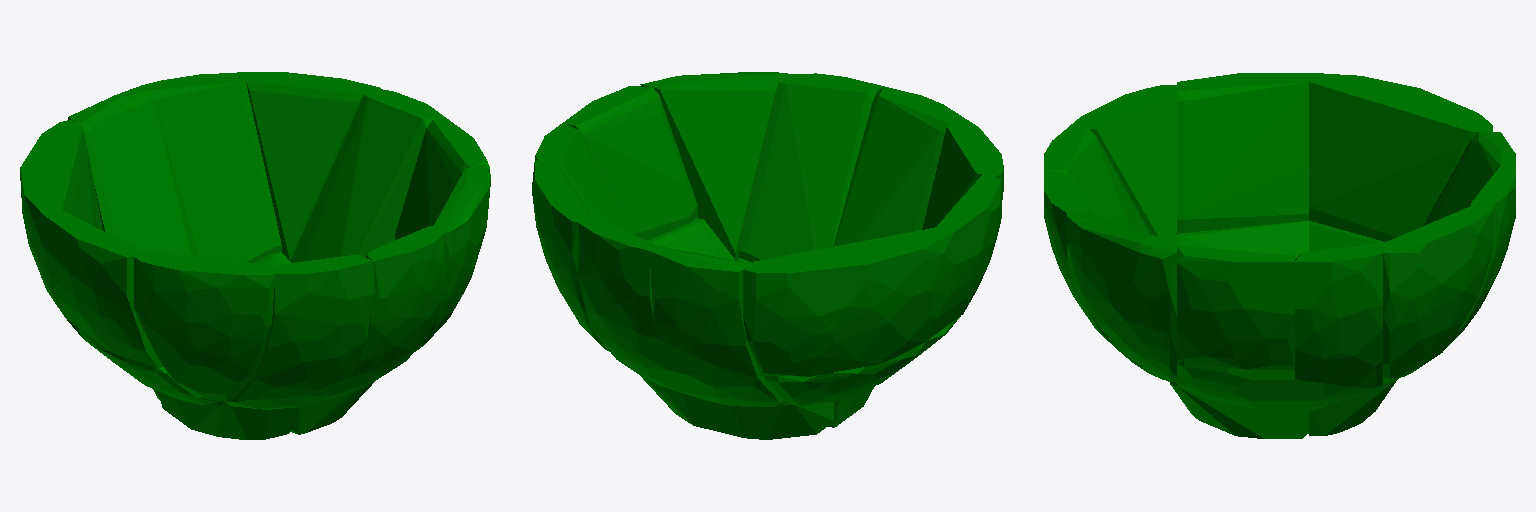
URDF robot description (model):
<?xml version="1.0" ?>

<robot name="model">

  <material name="color">
    <color rgba="0.01 0.51 0.02 1.00"/>
  </material>

  <link name="base_link">

    <contact>
      <lateral_friction value="1.0"/>
      <rolling_friction value="0.001"/>
      <spinning_friction value="0.001"/>
      <inertia_scaling value="1.0"/>
    </contact>

    <inertial>
      <origin rpy="0 0 0" xyz="0.000180774 0.000325939 0.0327776"/>
       <mass value="0.1"/>
       <inertia ixx="1" ixy="0" ixz="0" iyy="1" iyz="0" izz="1"/>
    </inertial>

    <visual>
      <origin rpy="0 0 0" xyz="0 0 0"/>
      <geometry>
        <mesh filename="model_vhacd_0_of_18.obj" scale="1 1 1"/>
      </geometry>
      <material name="color"/>
    </visual>
    <visual>
      <origin rpy="0 0 0" xyz="0 0 0"/>
      <geometry>
        <mesh filename="model_vhacd_1_of_18.obj" scale="1 1 1"/>
      </geometry>
      <material name="color"/>
    </visual>
    <visual>
      <origin rpy="0 0 0" xyz="0 0 0"/>
      <geometry>
        <mesh filename="model_vhacd_2_of_18.obj" scale="1 1 1"/>
      </geometry>
      <material name="color"/>
    </visual>
    <visual>
      <origin rpy="0 0 0" xyz="0 0 0"/>
      <geometry>
        <mesh filename="model_vhacd_3_of_18.obj" scale="1 1 1"/>
      </geometry>
      <material name="color"/>
    </visual>
    <visual>
      <origin rpy="0 0 0" xyz="0 0 0"/>
      <geometry>
        <mesh filename="model_vhacd_4_of_18.obj" scale="1 1 1"/>
      </geometry>
      <material name="color"/>
    </visual>
    <visual>
      <origin rpy="0 0 0" xyz="0 0 0"/>
      <geometry>
        <mesh filename="model_vhacd_5_of_18.obj" scale="1 1 1"/>
      </geometry>
      <material name="color"/>
    </visual>
    <visual>
      <origin rpy="0 0 0" xyz="0 0 0"/>
      <geometry>
        <mesh filename="model_vhacd_6_of_18.obj" scale="1 1 1"/>
      </geometry>
      <material name="color"/>
    </visual>
    <visual>
      <origin rpy="0 0 0" xyz="0 0 0"/>
      <geometry>
        <mesh filename="model_vhacd_7_of_18.obj" scale="1 1 1"/>
      </geometry>
      <material name="color"/>
    </visual>
    <visual>
      <origin rpy="0 0 0" xyz="0 0 0"/>
      <geometry>
        <mesh filename="model_vhacd_8_of_18.obj" scale="1 1 1"/>
      </geometry>
      <material name="color"/>
    </visual>
    <visual>
      <origin rpy="0 0 0" xyz="0 0 0"/>
      <geometry>
        <mesh filename="model_vhacd_9_of_18.obj" scale="1 1 1"/>
      </geometry>
      <material name="color"/>
    </visual>
    <visual>
      <origin rpy="0 0 0" xyz="0 0 0"/>
      <geometry>
        <mesh filename="model_vhacd_10_of_18.obj" scale="1 1 1"/>
      </geometry>
      <material name="color"/>
    </visual>
    <visual>
      <origin rpy="0 0 0" xyz="0 0 0"/>
      <geometry>
        <mesh filename="model_vhacd_11_of_18.obj" scale="1 1 1"/>
      </geometry>
      <material name="color"/>
    </visual>
    <visual>
      <origin rpy="0 0 0" xyz="0 0 0"/>
      <geometry>
        <mesh filename="model_vhacd_12_of_18.obj" scale="1 1 1"/>
      </geometry>
      <material name="color"/>
    </visual>
    <visual>
      <origin rpy="0 0 0" xyz="0 0 0"/>
      <geometry>
        <mesh filename="model_vhacd_13_of_18.obj" scale="1 1 1"/>
      </geometry>
      <material name="color"/>
    </visual>
    <visual>
      <origin rpy="0 0 0" xyz="0 0 0"/>
      <geometry>
        <mesh filename="model_vhacd_14_of_18.obj" scale="1 1 1"/>
      </geometry>
      <material name="color"/>
    </visual>
    <visual>
      <origin rpy="0 0 0" xyz="0 0 0"/>
      <geometry>
        <mesh filename="model_vhacd_15_of_18.obj" scale="1 1 1"/>
      </geometry>
      <material name="color"/>
    </visual>
    <visual>
      <origin rpy="0 0 0" xyz="0 0 0"/>
      <geometry>
        <mesh filename="model_vhacd_16_of_18.obj" scale="1 1 1"/>
      </geometry>
      <material name="color"/>
    </visual>
    <visual>
      <origin rpy="0 0 0" xyz="0 0 0"/>
      <geometry>
        <mesh filename="model_vhacd_17_of_18.obj" scale="1 1 1"/>
      </geometry>
      <material name="color"/>
    </visual>

    <collision>
      <origin rpy="0 0 0" xyz="0 0 0"/>
      <geometry>
        <mesh filename="model_vhacd_0_of_18.obj" scale="1 1 1"/>
      </geometry>
    </collision>
    <collision>
      <origin rpy="0 0 0" xyz="0 0 0"/>
      <geometry>
        <mesh filename="model_vhacd_1_of_18.obj" scale="1 1 1"/>
      </geometry>
    </collision>
    <collision>
      <origin rpy="0 0 0" xyz="0 0 0"/>
      <geometry>
        <mesh filename="model_vhacd_2_of_18.obj" scale="1 1 1"/>
      </geometry>
    </collision>
    <collision>
      <origin rpy="0 0 0" xyz="0 0 0"/>
      <geometry>
        <mesh filename="model_vhacd_3_of_18.obj" scale="1 1 1"/>
      </geometry>
    </collision>
    <collision>
      <origin rpy="0 0 0" xyz="0 0 0"/>
      <geometry>
        <mesh filename="model_vhacd_4_of_18.obj" scale="1 1 1"/>
      </geometry>
    </collision>
    <collision>
      <origin rpy="0 0 0" xyz="0 0 0"/>
      <geometry>
        <mesh filename="model_vhacd_5_of_18.obj" scale="1 1 1"/>
      </geometry>
    </collision>
    <collision>
      <origin rpy="0 0 0" xyz="0 0 0"/>
      <geometry>
        <mesh filename="model_vhacd_6_of_18.obj" scale="1 1 1"/>
      </geometry>
    </collision>
    <collision>
      <origin rpy="0 0 0" xyz="0 0 0"/>
      <geometry>
        <mesh filename="model_vhacd_7_of_18.obj" scale="1 1 1"/>
      </geometry>
    </collision>
    <collision>
      <origin rpy="0 0 0" xyz="0 0 0"/>
      <geometry>
        <mesh filename="model_vhacd_8_of_18.obj" scale="1 1 1"/>
      </geometry>
    </collision>
    <collision>
      <origin rpy="0 0 0" xyz="0 0 0"/>
      <geometry>
        <mesh filename="model_vhacd_9_of_18.obj" scale="1 1 1"/>
      </geometry>
    </collision>
    <collision>
      <origin rpy="0 0 0" xyz="0 0 0"/>
      <geometry>
        <mesh filename="model_vhacd_10_of_18.obj" scale="1 1 1"/>
      </geometry>
    </collision>
    <collision>
      <origin rpy="0 0 0" xyz="0 0 0"/>
      <geometry>
        <mesh filename="model_vhacd_11_of_18.obj" scale="1 1 1"/>
      </geometry>
    </collision>
    <collision>
      <origin rpy="0 0 0" xyz="0 0 0"/>
      <geometry>
        <mesh filename="model_vhacd_12_of_18.obj" scale="1 1 1"/>
      </geometry>
    </collision>
    <collision>
      <origin rpy="0 0 0" xyz="0 0 0"/>
      <geometry>
        <mesh filename="model_vhacd_13_of_18.obj" scale="1 1 1"/>
      </geometry>
    </collision>
    <collision>
      <origin rpy="0 0 0" xyz="0 0 0"/>
      <geometry>
        <mesh filename="model_vhacd_14_of_18.obj" scale="1 1 1"/>
      </geometry>
    </collision>
    <collision>
      <origin rpy="0 0 0" xyz="0 0 0"/>
      <geometry>
        <mesh filename="model_vhacd_15_of_18.obj" scale="1 1 1"/>
      </geometry>
    </collision>
    <collision>
      <origin rpy="0 0 0" xyz="0 0 0"/>
      <geometry>
        <mesh filename="model_vhacd_16_of_18.obj" scale="1 1 1"/>
      </geometry>
    </collision>
    <collision>
      <origin rpy="0 0 0" xyz="0 0 0"/>
      <geometry>
        <mesh filename="model_vhacd_17_of_18.obj" scale="1 1 1"/>
      </geometry>
    </collision>

  </link>

</robot>

--- What the picture shows (computed from the rendered views, not written in the file) ---
The picture shows the robot from 3 angles, left to right: view 1: azimuth 30°, elevation 25°; view 2: azimuth 150°, elevation 25°; view 3: azimuth 270°, elevation 25°; orthographic projection.
Model model with 1 links and 0 joints (none), rooted at base_link, posed all joints at 0.
Visible links, largest first — view 1: base_link; view 2: base_link; view 3: base_link.
Link boxes in pixels (bbox=[...]): base_link: bbox=[20, 72, 490, 439]; base_link: bbox=[532, 72, 1003, 439]; base_link: bbox=[1044, 73, 1515, 438].
Bounding box of the posed robot: 0.1149 × 0.1167 × 0.0638 m (x, y, z).
Meshes: 18 distinct files referenced, 18 mesh visuals loaded (18 OBJ).